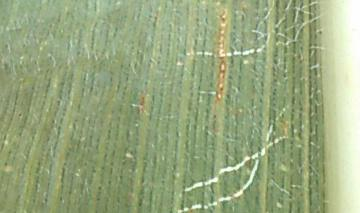tarspot: (317, 28, 323, 35), (17, 111, 24, 117), (2, 161, 9, 167)
